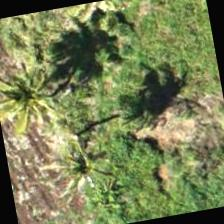Kelapa_Sawit: (29, 115, 133, 219), (0, 31, 69, 132)
